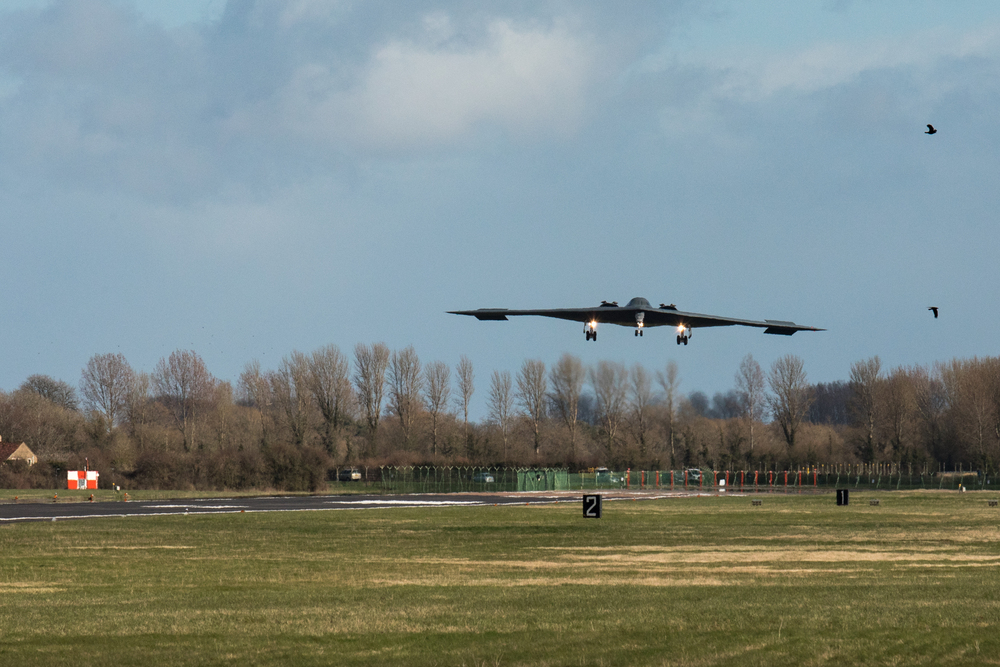B2: (443, 296, 829, 346)
